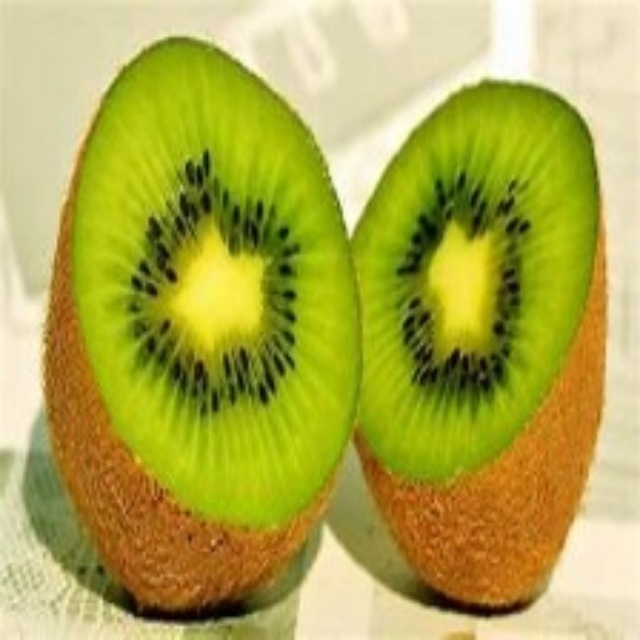kiwi: (51, 41, 363, 625), (350, 65, 608, 616)
